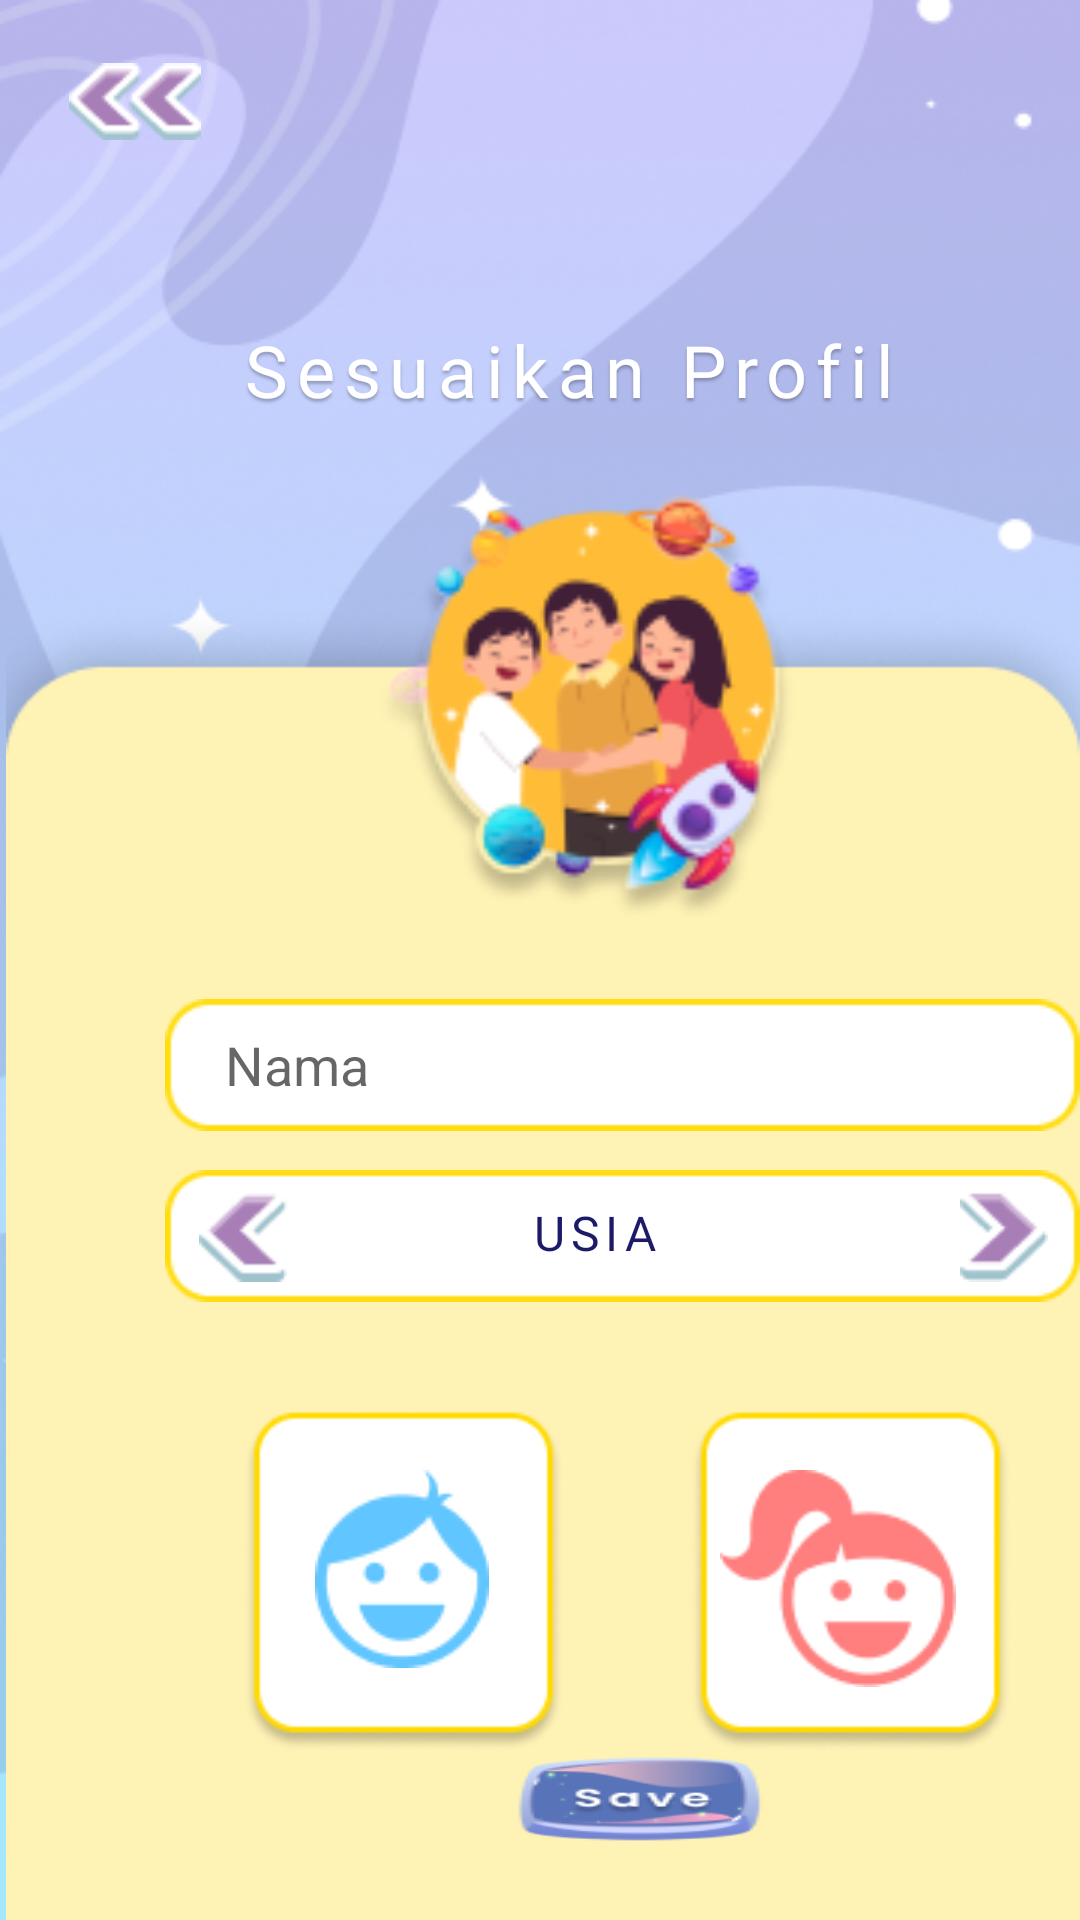

Locate icon controls on the screen. Image size 1080 × 1920, boxes as (x1, y1, x2, y2).
lakilaki: (315, 1470, 489, 1668)
perempuan: (720, 1470, 956, 1687)
